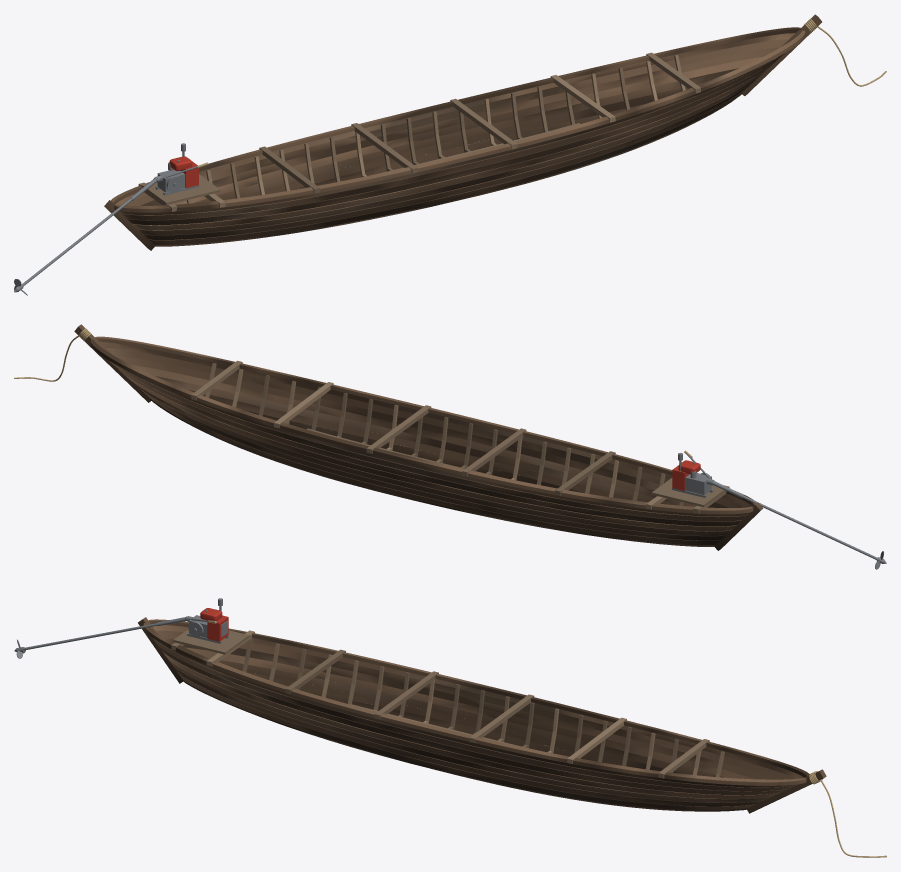
Rendered from baleiniere-vide.glb.
3 views of the same model, one above another, from view 1: azimuth 30°, elevation 25°; view 2: azimuth 150°, elevation 25°; view 3: azimuth 330°, elevation 25° (orthographic). The views are drawn at different scales.
Visible parts, largest first — view 1: plat_bord, traverses, bordage_tribord_6, bordage_babord_6, bordage_tribord_5, membrures, bordage_babord_5, bordage_tribord_4, bordage_babord_4, bordage_tribord_3, bordage_babord_3, bordage_tribord_2 (+9 smaller); view 2: plat_bord, traverses, bordage_babord_6, bordage_tribord_6, bordage_babord_5, membrures, bordage_tribord_5, bordage_babord_4, bordage_tribord_4, bordage_babord_3, bordage_tribord_3, bordage_babord_2 (+10 smaller); view 3: plat_bord, traverses, bordage_tribord_6, membrures, bordage_tribord_5, bordage_babord_6, bordage_babord_4, bordage_tribord_4, bordage_babord_5, bordage_tribord_3, bordage_tribord_2, bordage_babord_3 (+10 smaller).
Part boxes in pixels (left/top/right/bottom): plat_bord: left=111, top=27, right=805, bottom=212; traverses: left=138, top=52, right=700, bottom=211; bordage_tribord_6: left=121, top=53, right=784, bottom=220; bordage_babord_6: left=126, top=39, right=788, bottom=205; bordage_tribord_5: left=126, top=57, right=780, bottom=225; membrures: left=187, top=54, right=685, bottom=203; bordage_babord_5: left=140, top=47, right=779, bottom=205; bordage_tribord_4: left=132, top=65, right=771, bottom=230; bordage_babord_4: left=174, top=57, right=762, bottom=204; bordage_tribord_3: left=137, top=73, right=763, bottom=234; bordage_babord_3: left=193, top=68, right=738, bottom=203; bordage_tribord_2: left=143, top=80, right=755, bottom=239; plat_bord: left=90, top=336, right=756, bottom=514; traverses: left=191, top=360, right=729, bottom=513; bordage_babord_6: left=110, top=361, right=747, bottom=521; bordage_tribord_6: left=106, top=348, right=744, bottom=507; bordage_babord_5: left=114, top=365, right=741, bottom=526; membrures: left=205, top=363, right=683, bottom=505; bordage_tribord_5: left=115, top=356, right=728, bottom=507; bordage_babord_4: left=120, top=371, right=736, bottom=531; bordage_tribord_4: left=132, top=365, right=696, bottom=506; bordage_babord_3: left=131, top=381, right=730, bottom=535; bordage_tribord_3: left=155, top=376, right=677, bottom=505; bordage_babord_2: left=139, top=388, right=725, bottom=540; plat_bord: left=143, top=619, right=809, bottom=785; traverses: left=171, top=629, right=709, bottom=778; bordage_tribord_6: left=153, top=638, right=796, bottom=791; membrures: left=242, top=638, right=724, bottom=777; bordage_tribord_5: left=157, top=644, right=787, bottom=795; bordage_babord_6: left=156, top=630, right=795, bottom=779; bordage_babord_4: left=185, top=647, right=755, bottom=779; bordage_tribord_4: left=162, top=651, right=779, bottom=798; bordage_babord_5: left=167, top=638, right=778, bottom=779; bordage_tribord_3: left=167, top=658, right=771, bottom=802; bordage_tribord_2: left=173, top=666, right=763, bottom=806; bordage_babord_3: left=219, top=660, right=723, bottom=777.
Size of the model in its own units: 20.66 by 2.16 by 2.48.
